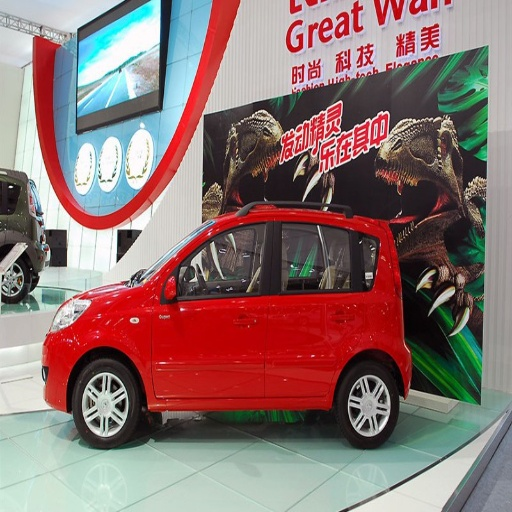front_left_door: (152, 216, 274, 399)
